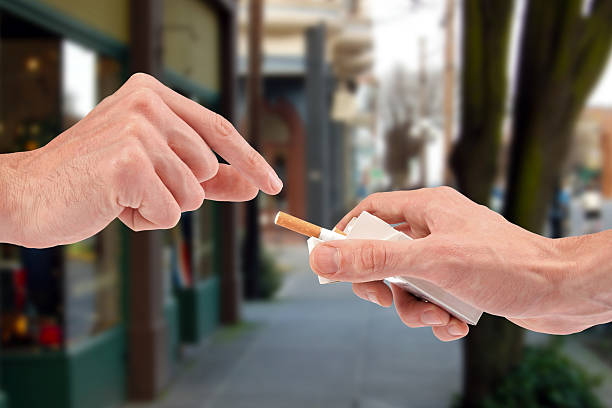cigarette: (307, 210, 485, 325), (272, 207, 351, 245)
